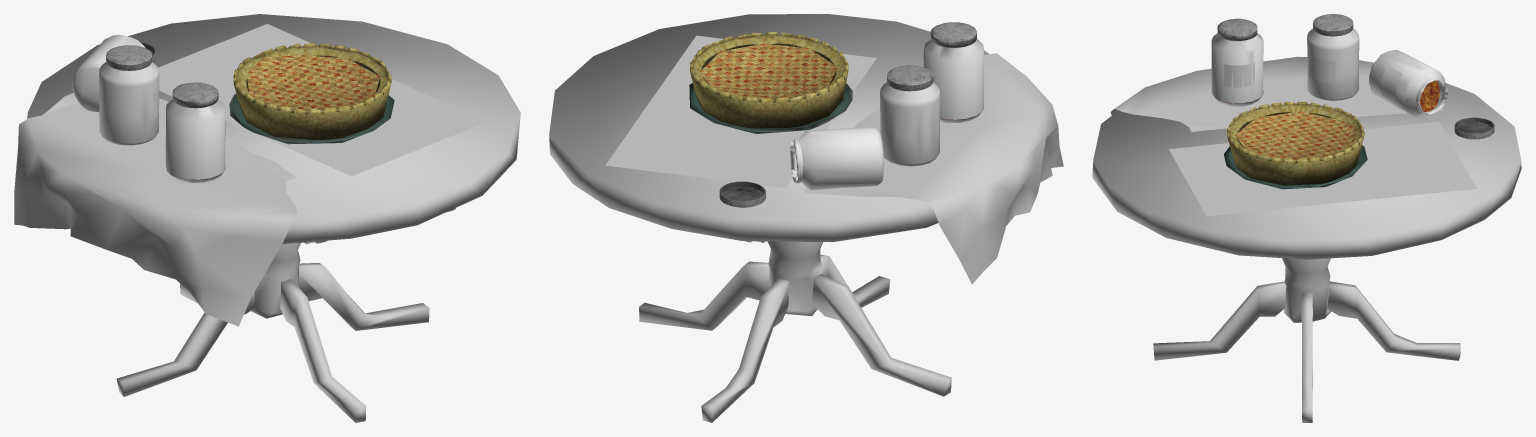
The picture shows the model from 3 angles, left to right: view 1: azimuth 30°, elevation 25°; view 2: azimuth 150°, elevation 25°; view 3: azimuth 270°, elevation 25°; orthographic projection. The views are drawn at different scales.
Visible parts, largest first — view 1: Plane.001, pie, Strawberry compote.001, blueberry Compote.001, apple Compote.001, Strawberry compote, blueberry Compote; view 2: Plane.001, pie, apple Compote.001, blueberry Compote.001, Strawberry compote.001, Strawberry compote, apple Compote, blueberry Compote; view 3: Plane.001, pie, Strawberry compote.001, apple Compote.001, blueberry Compote.001, apple Compote, Strawberry compote, blueberry Compote, Strawberry compote.002, blueberry Compote.002, apple Compote.002.
Boxes of the visible parts, x1,y1,x2,y2 form: Plane.001: (14,14,520,422); pie: (229,43,394,144); Strawberry compote.001: (165,99,225,182); blueberry Compote.001: (99,62,159,145); apple Compote.001: (72,34,145,112); Strawberry compote: (169,82,221,179); blueberry Compote: (106,45,152,70); Plane.001: (549,14,1063,422); pie: (689,32,852,133); apple Compote.001: (790,126,884,190); blueberry Compote.001: (880,82,940,166); Strawberry compote.001: (923,39,983,122); Strawberry compote: (930,22,979,119); apple Compote: (719,181,765,207); blueberry Compote: (887,65,933,91); Plane.001: (1092,56,1521,422); pie: (1224,101,1367,189); Strawberry compote.001: (1211,33,1263,106); apple Compote.001: (1369,50,1447,117); blueberry Compote.001: (1307,28,1359,100); apple Compote: (1419,80,1494,139); Strawberry compote: (1215,18,1260,103); blueberry Compote: (1313,14,1353,36); Strawberry compote.002: (1224,63,1254,87); blueberry Compote.002: (1309,54,1335,82); apple Compote.002: (1380,66,1402,102).
Size of the model in its own units: 338 by 240 by 329.
